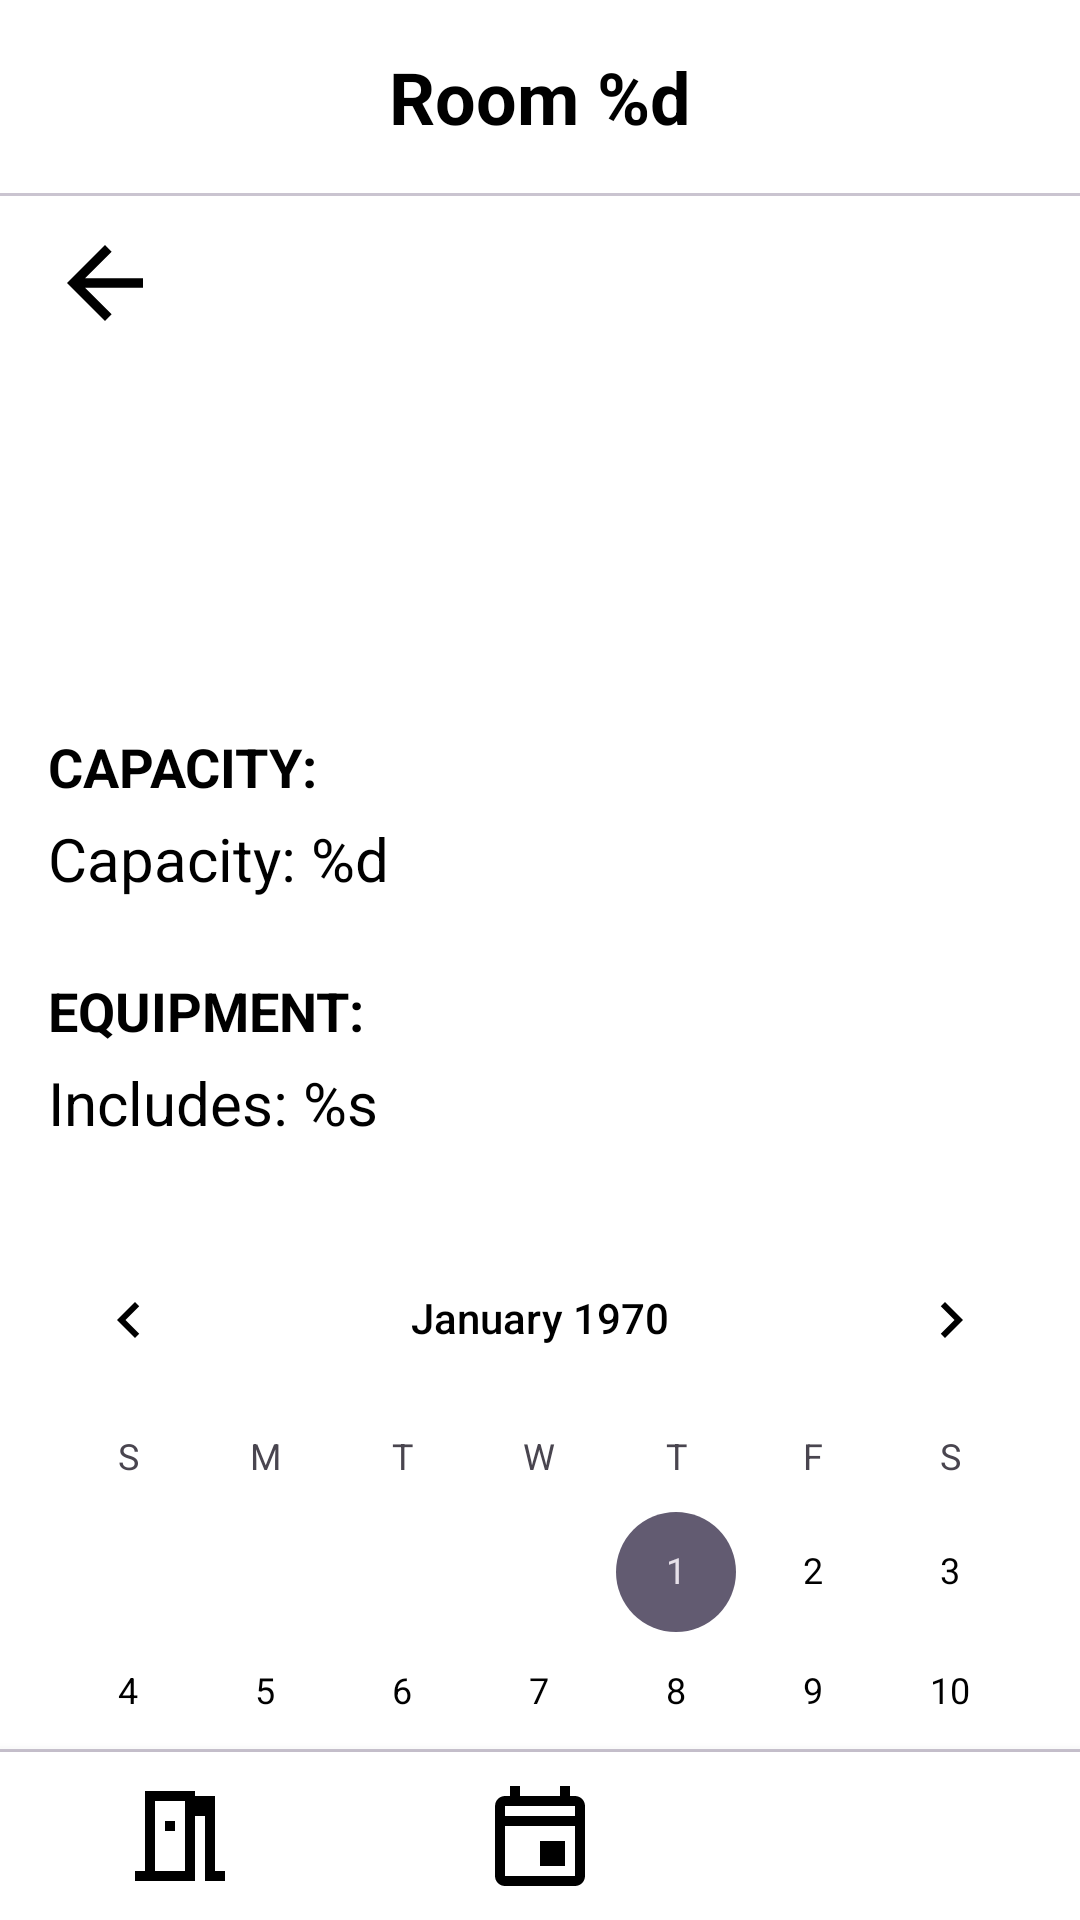

Where to tap for icons on this 1080 × 1920 app screen, as (x,y):
Back button: (105,283)
